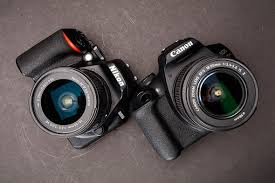camera: (145, 34, 263, 161), (18, 34, 138, 148)
